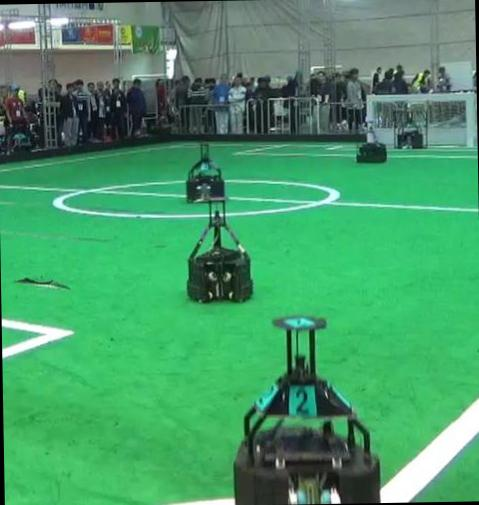goal: (465, 92, 476, 145)
robot: (234, 316, 379, 504), (186, 210, 251, 301), (186, 144, 223, 201), (395, 106, 428, 148), (356, 124, 387, 163)
